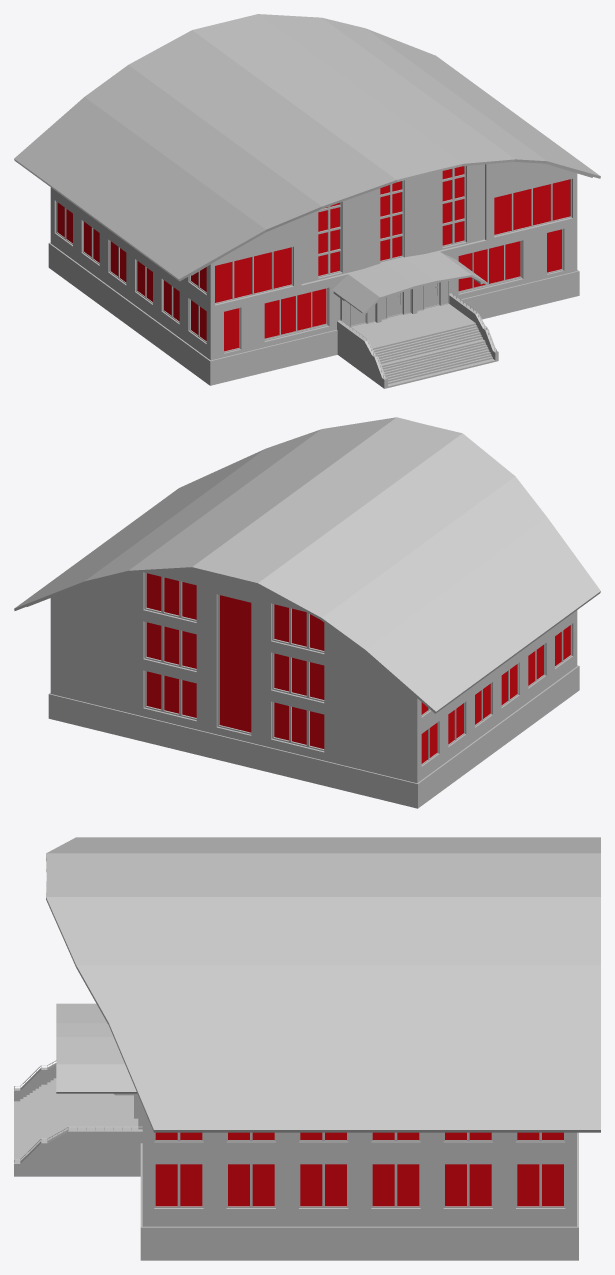
File: SM_infrastructure_buildings_016.gltf
3 views of the same model, one above another, from view 1: azimuth 30°, elevation 25°; view 2: azimuth 150°, elevation 25°; view 3: azimuth 270°, elevation 25° (orthographic). The views are drawn at different scales.
Visible parts, largest first — view 1: infrastructure_buildings_016; view 2: infrastructure_buildings_016; view 3: infrastructure_buildings_016.
Part boxes in pixels (x1,y1,x2,y2): infrastructure_buildings_016: (14, 14, 600, 388); infrastructure_buildings_016: (14, 417, 600, 808); infrastructure_buildings_016: (14, 837, 600, 1260).
Bounding box in the file's own units: 36 × 15.85 × 32.
